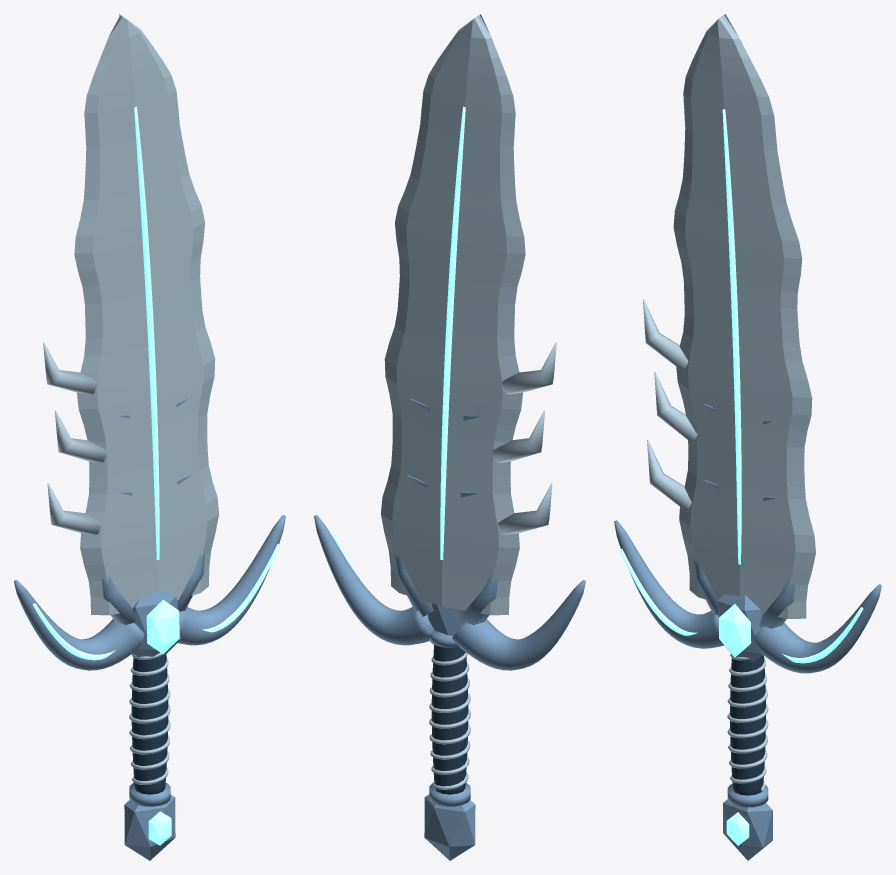
File: frost_winterfang.glb
3 renders of one model, left to right at view 1: azimuth 30°, elevation 25°; view 2: azimuth 150°, elevation 25°; view 3: azimuth 330°, elevation 25°, orthographic.
Parts seen in each view (by area): view 1: Winterfang blade, Tapered leather grip.004, Swept guard wing.008, Swept guard wing.009, Curved fuller inlay.008, Faceted pommel.004, Helical grip binding.004, Guard gemstone.004, Guard socket.004, Hooked edge spur.005, Hooked edge spur.003, Hooked edge spur.004 (+6 smaller); view 2: Winterfang blade, Swept guard wing.008, Swept guard wing.009, Tapered leather grip.004, Curved fuller inlay.009, Faceted pommel.004, Helical grip binding.004, Hooked edge spur.005, Hooked edge spur.003, Hooked edge spur.004, Crown blade prong.004, Crown blade prong.005 (+2 smaller); view 3: Winterfang blade, Tapered leather grip.004, Swept guard wing.009, Swept guard wing.008, Curved fuller inlay.008, Helical grip binding.004, Faceted pommel.004, Guard gemstone.004, Guard socket.004, Hooked edge spur.005, Hooked edge spur.003, Hooked edge spur.004 (+6 smaller).
Boxes of the visible parts, x1=… form: Winterfang blade: x1=74, y1=14, x2=218, y2=615; Tapered leather grip.004: x1=131, y1=653, x2=168, y2=794; Swept guard wing.008: x1=14, y1=580, x2=144, y2=670; Swept guard wing.009: x1=178, y1=515, x2=285, y2=645; Curved fuller inlay.008: x1=134, y1=106, x2=159, y2=559; Faceted pommel.004: x1=124, y1=794, x2=175, y2=860; Helical grip binding.004: x1=129, y1=653, x2=170, y2=784; Guard gemstone.004: x1=146, y1=599, x2=179, y2=654; Guard socket.004: x1=133, y1=588, x2=181, y2=657; Hooked edge spur.005: x1=43, y1=342, x2=97, y2=394; Hooked edge spur.003: x1=47, y1=483, x2=101, y2=534; Hooked edge spur.004: x1=55, y1=410, x2=107, y2=462; Winterfang blade: x1=381, y1=14, x2=525, y2=615; Swept guard wing.008: x1=452, y1=580, x2=585, y2=670; Swept guard wing.009: x1=314, y1=515, x2=434, y2=645; Tapered leather grip.004: x1=431, y1=645, x2=468, y2=794; Curved fuller inlay.009: x1=440, y1=106, x2=465, y2=559; Faceted pommel.004: x1=424, y1=794, x2=475, y2=860; Helical grip binding.004: x1=429, y1=653, x2=470, y2=789; Hooked edge spur.005: x1=502, y1=342, x2=556, y2=394; Hooked edge spur.003: x1=498, y1=483, x2=552, y2=534; Hooked edge spur.004: x1=492, y1=410, x2=544, y2=462; Crown blade prong.004: x1=453, y1=576, x2=497, y2=625; Crown blade prong.005: x1=394, y1=552, x2=434, y2=616; Winterfang blade: x1=673, y1=14, x2=815, y2=618; Tapered leather grip.004: x1=730, y1=655, x2=765, y2=795; Swept guard wing.009: x1=753, y1=584, x2=881, y2=673; Swept guard wing.008: x1=614, y1=520, x2=724, y2=648; Curved fuller inlay.008: x1=722, y1=109, x2=741, y2=564; Helical grip binding.004: x1=727, y1=653, x2=768, y2=791; Faceted pommel.004: x1=723, y1=799, x2=772, y2=860; Guard gemstone.004: x1=719, y1=604, x2=751, y2=657; Guard socket.004: x1=717, y1=594, x2=762, y2=662; Hooked edge spur.005: x1=643, y1=299, x2=688, y2=371; Hooked edge spur.003: x1=647, y1=440, x2=691, y2=512; Hooked edge spur.004: x1=654, y1=372, x2=697, y2=443.
Size of the model in its own units: 2.02 by 6.05 by 0.3739.
